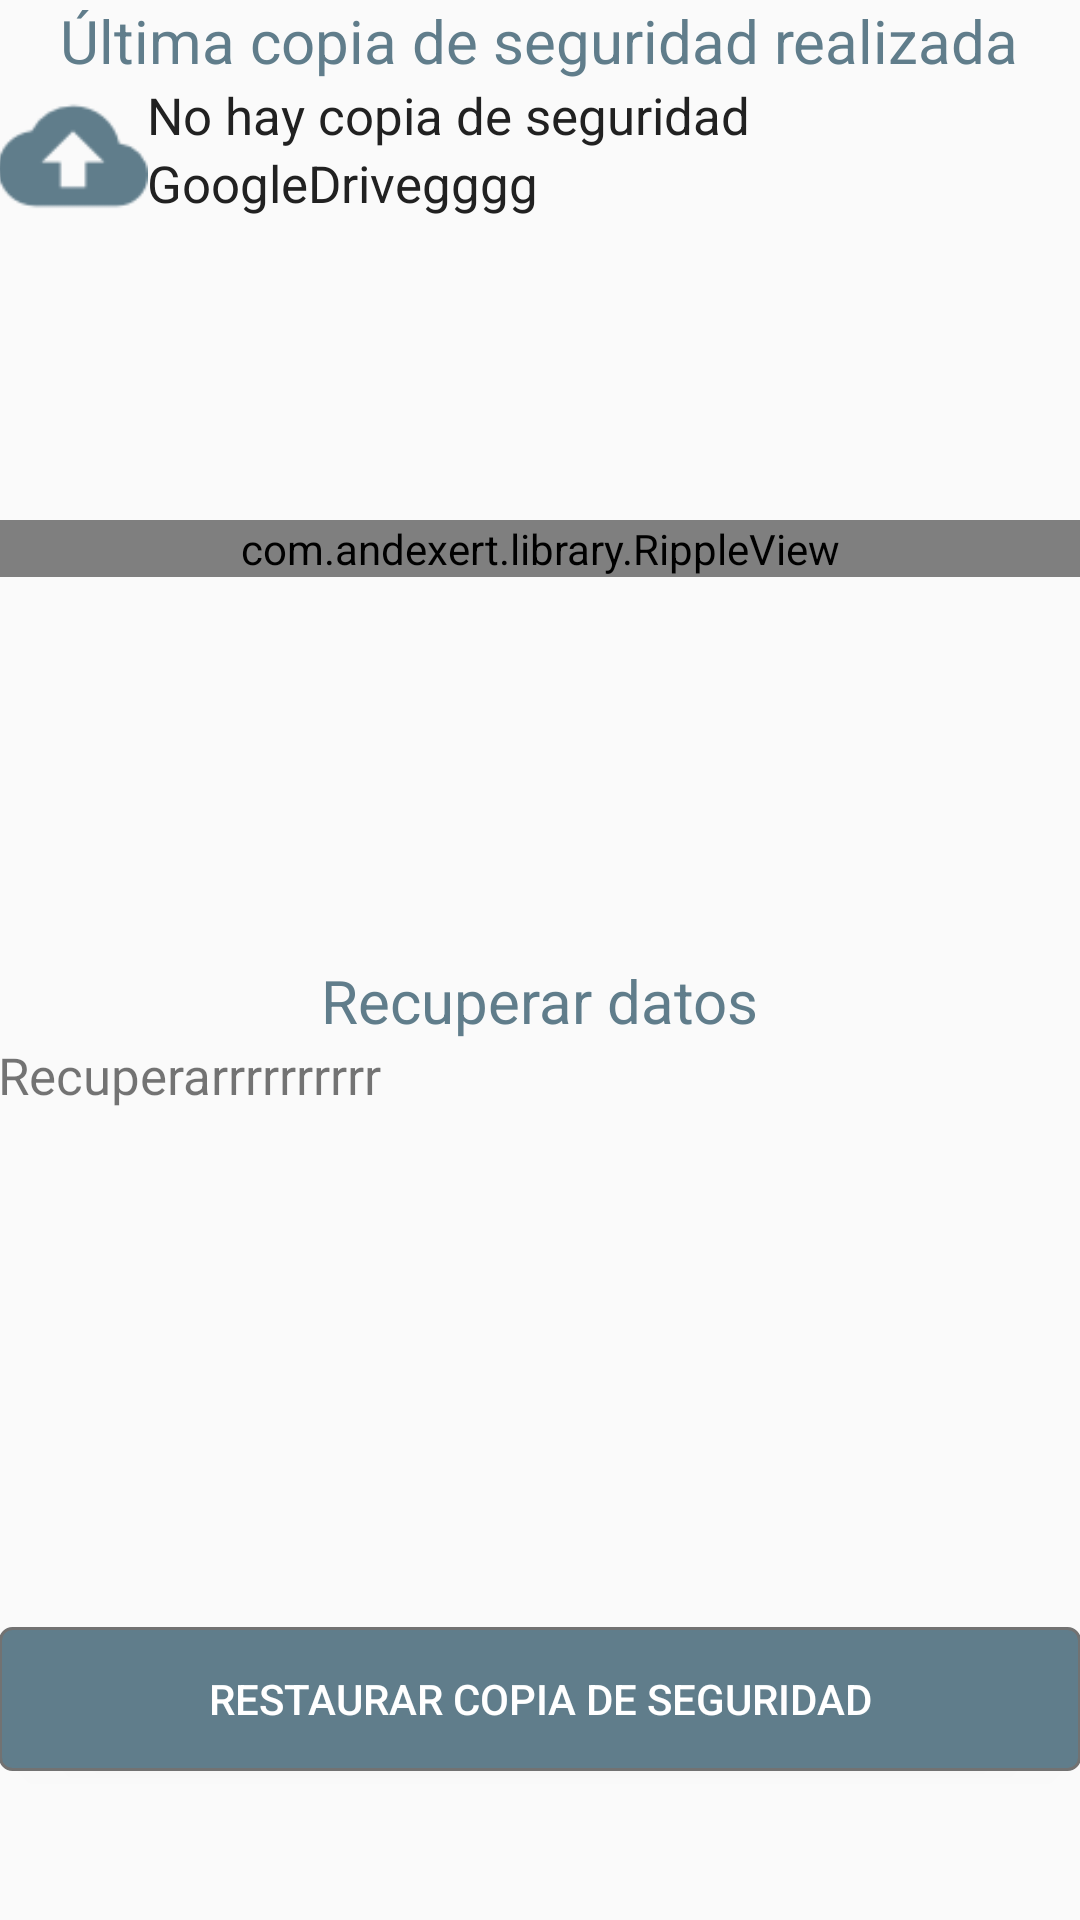

Locate icon controls on the screen. Image size 1080px×1920px, boxes as (x1, y1, x2, y2).
backup: (0, 105, 148, 208)
